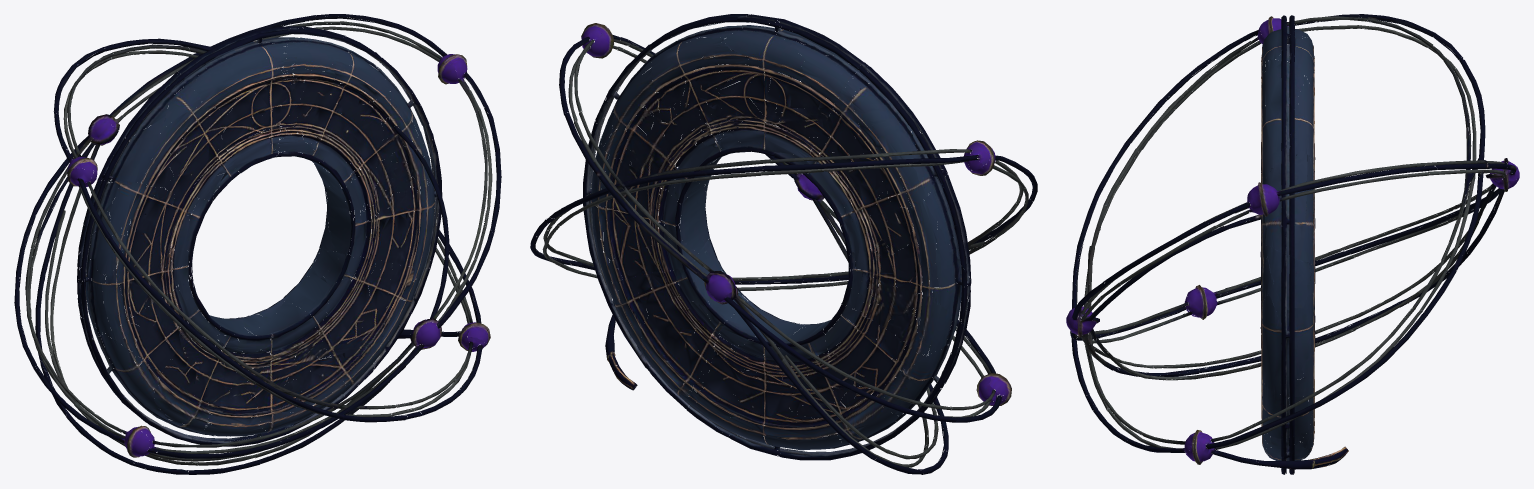
File: pedestal-del-santuario.glb
3 views of the same model, side by side, from view 1: azimuth 30°, elevation 25°; view 2: azimuth 150°, elevation 25°; view 3: azimuth 270°, elevation 25° (orthographic). The views are drawn at different scales.
Parts seen in each view (by area): view 1: tripo_node_e21448a8-fbc9-4f4d-8b72-e6a8cf91b260; view 2: tripo_node_e21448a8-fbc9-4f4d-8b72-e6a8cf91b260; view 3: tripo_node_e21448a8-fbc9-4f4d-8b72-e6a8cf91b260.
Part boxes in pixels (x1,y1,x2,y2): tripo_node_e21448a8-fbc9-4f4d-8b72-e6a8cf91b260: [14, 14, 501, 474]; tripo_node_e21448a8-fbc9-4f4d-8b72-e6a8cf91b260: [530, 14, 1037, 474]; tripo_node_e21448a8-fbc9-4f4d-8b72-e6a8cf91b260: [1066, 14, 1519, 474].
Bounding box in the file's own units: 0.98 × 0.9632 × 0.9354.
1 material, 1 textured.
